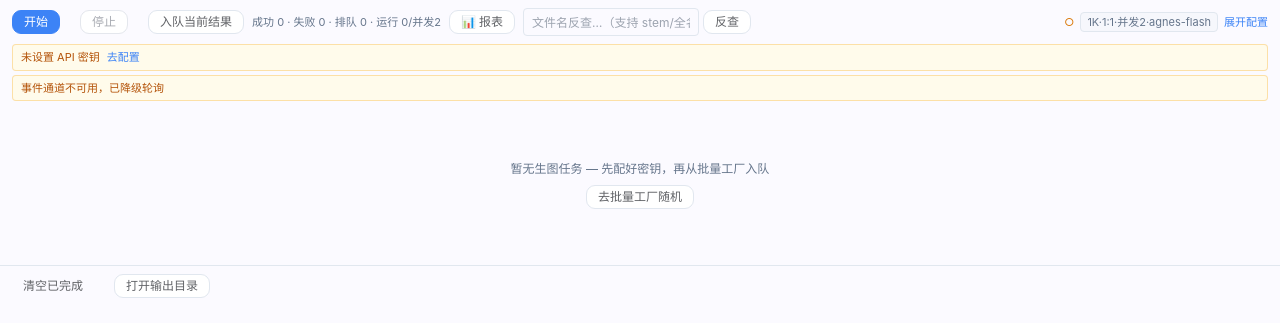
Test: 配置默认收起 › 进入队列不自动打开配置，点击展开后浮层出现
The image size is (1280, 323).
Click the button "○ 1K·1:1·并发2·agnes-flash 展开配置".
click(1166, 22)  # box top-left (1064, 12), bottom-right (1268, 32)
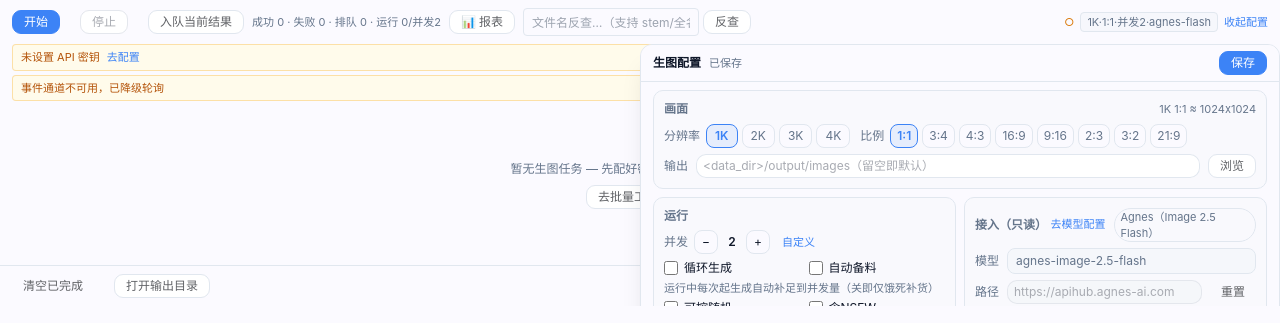
Check: the element with test id "image-queue-settings" is shown, box top-left (641, 45), bottom-right (1279, 306)
